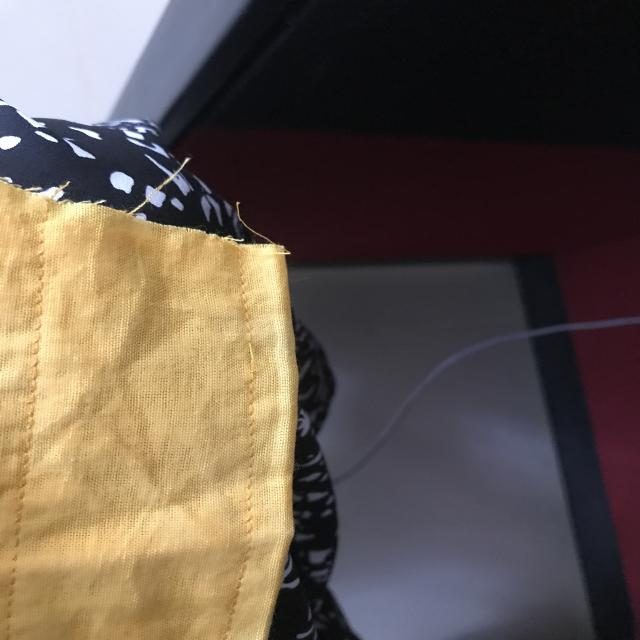skip: (244, 333, 267, 384)
